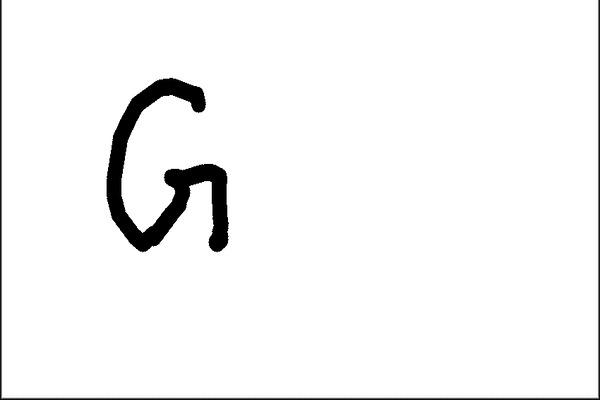G: (102, 73, 234, 256)
